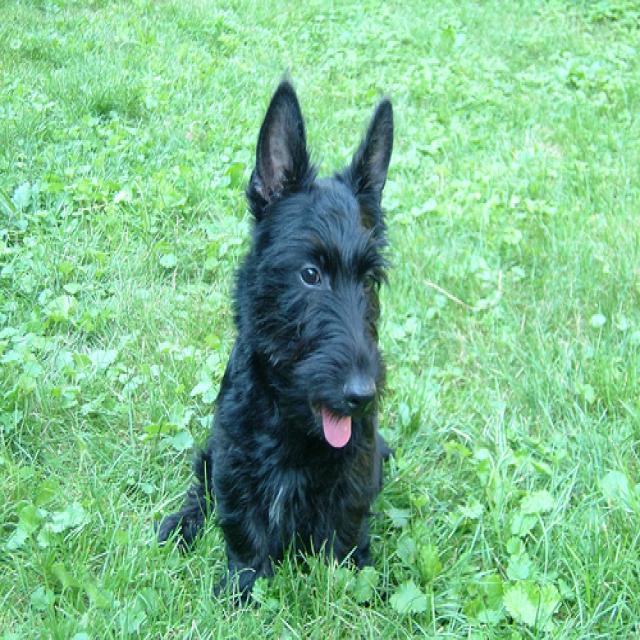dog-scottish_terrier: (159, 68, 406, 579)
